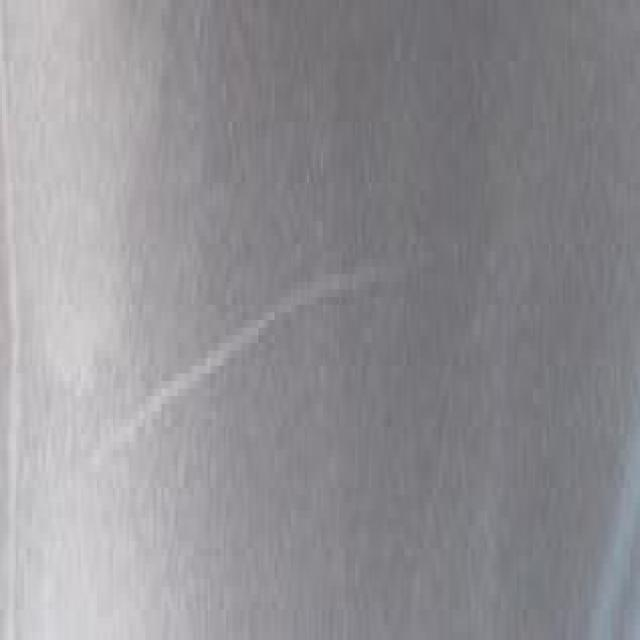scratch: (49, 217, 380, 545)
